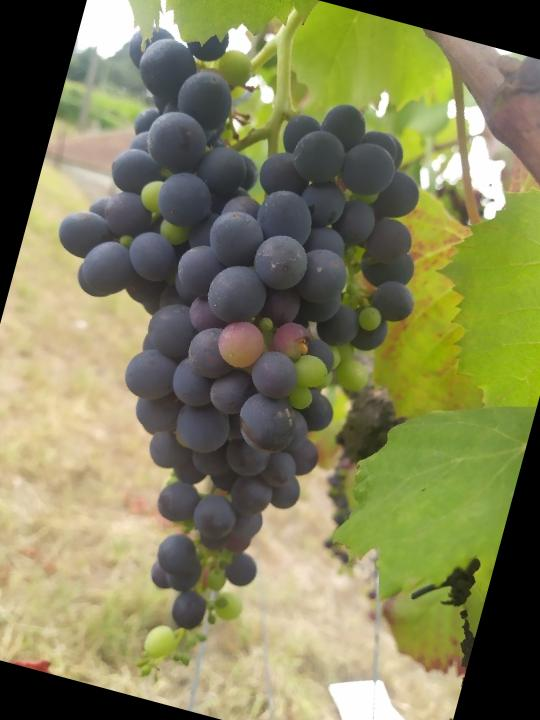grape: (0, 0, 471, 720)
